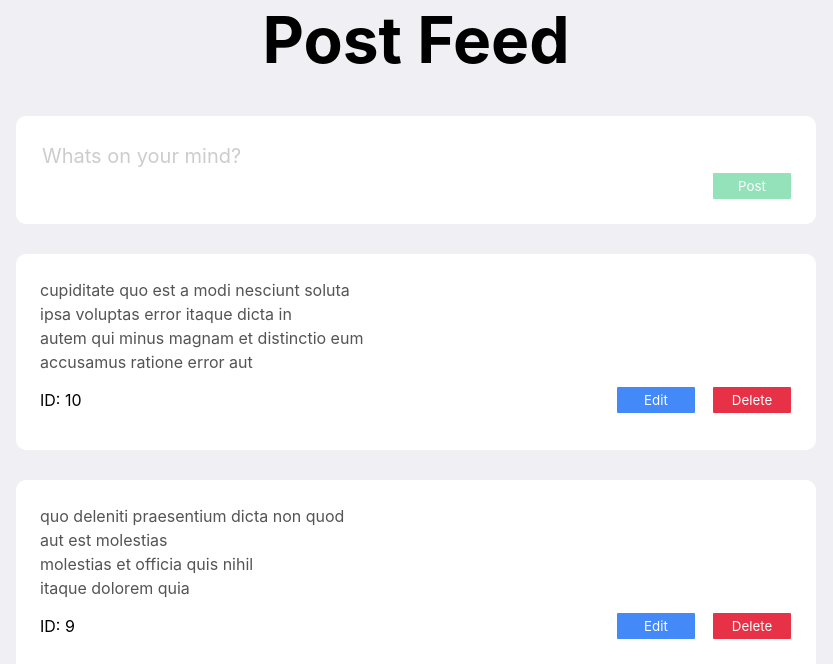
Test case: User › can edit post
The width and height of the screenshot is (833, 664).
Click the button "Edit" in the row of "10": (656, 400) 616,386 -> 696,414
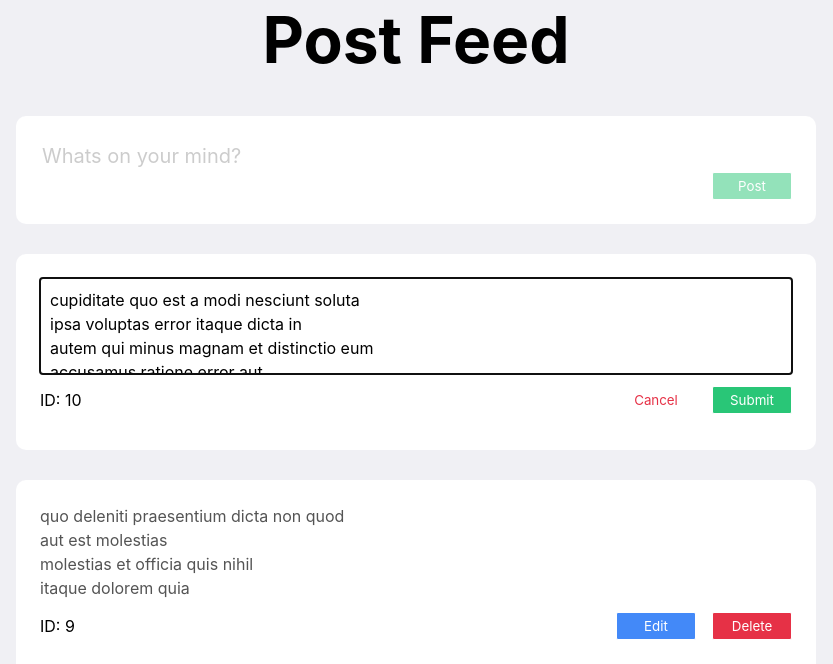
Check: the button "Cancel" is shown, box 616,388 -> 696,414
Check: the button "Submit" is shown, box 712,386 -> 792,414
In the 1st text box: (416, 326) 40,278 -> 792,374, type "I am going"
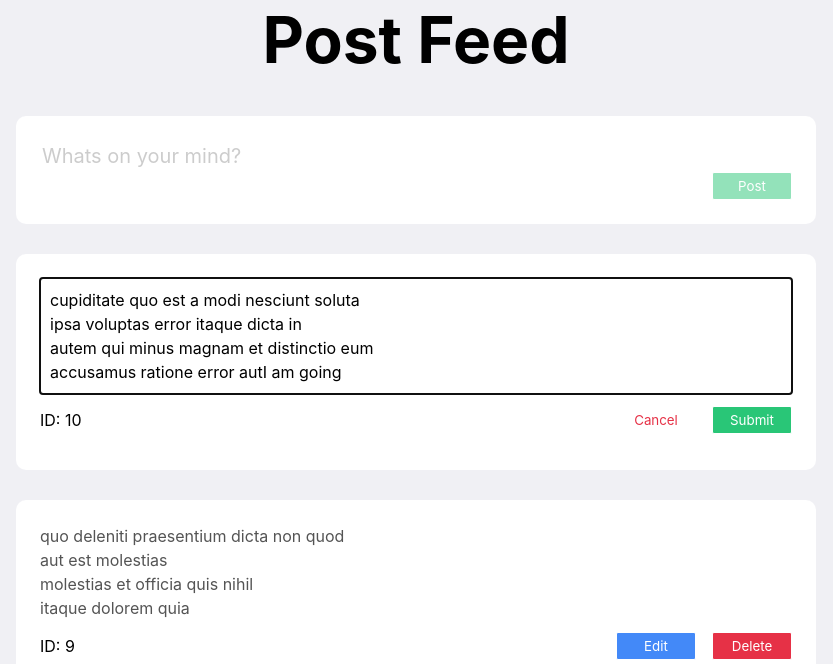
Click the button "Submit": (752, 420) 712,406 -> 792,434
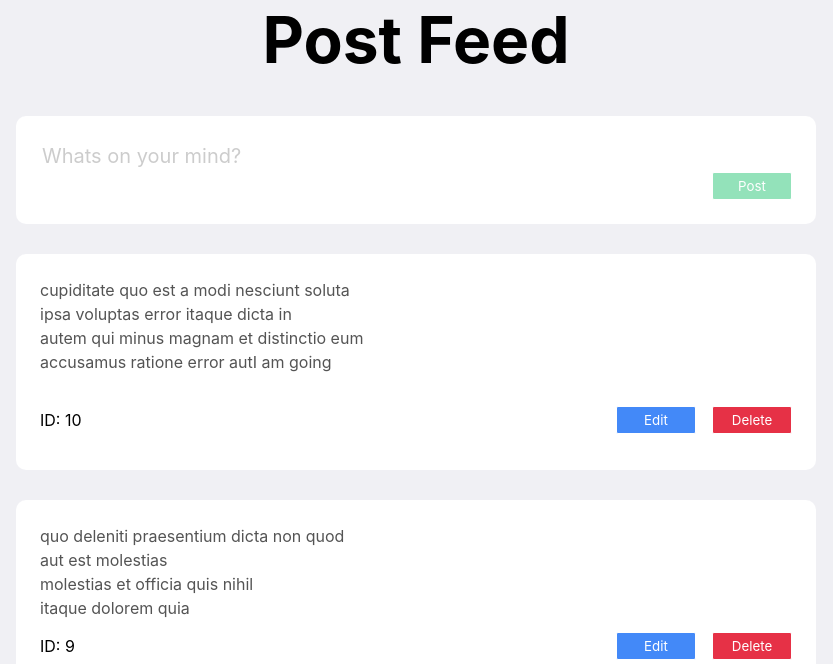
Check: the button "Cancel" is gone
Check: the button "Submit" is gone
Check: the button "Edit" in the row of "10" is shown, box 616,406 -> 696,434
